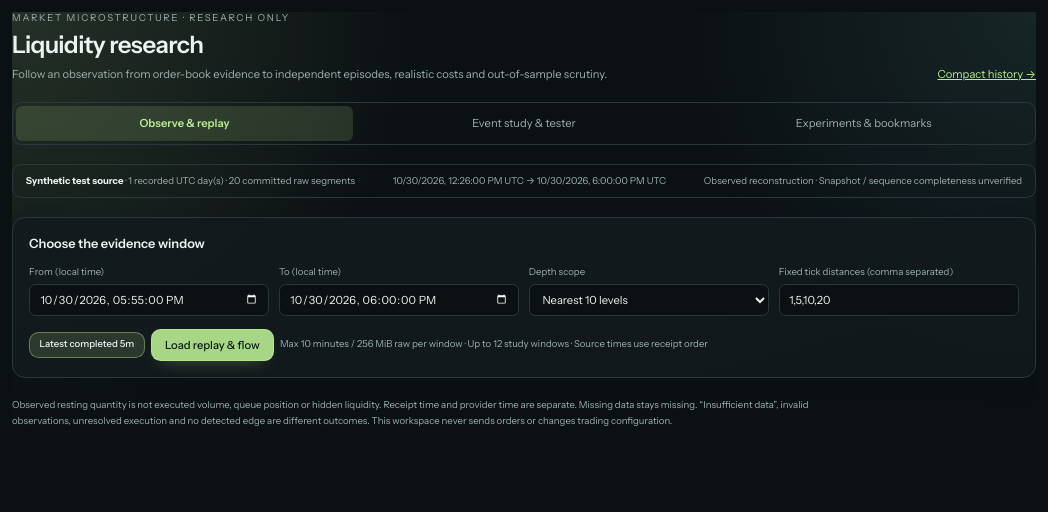
rejects oversized UI windows before submitting a job
Expected: the text "Synthetic test source" is shown, [26,175,124,186]
Replace the text in the field named "Research start" with "2026-10-30T10:00:00": (149, 300) [29,284,269,316]
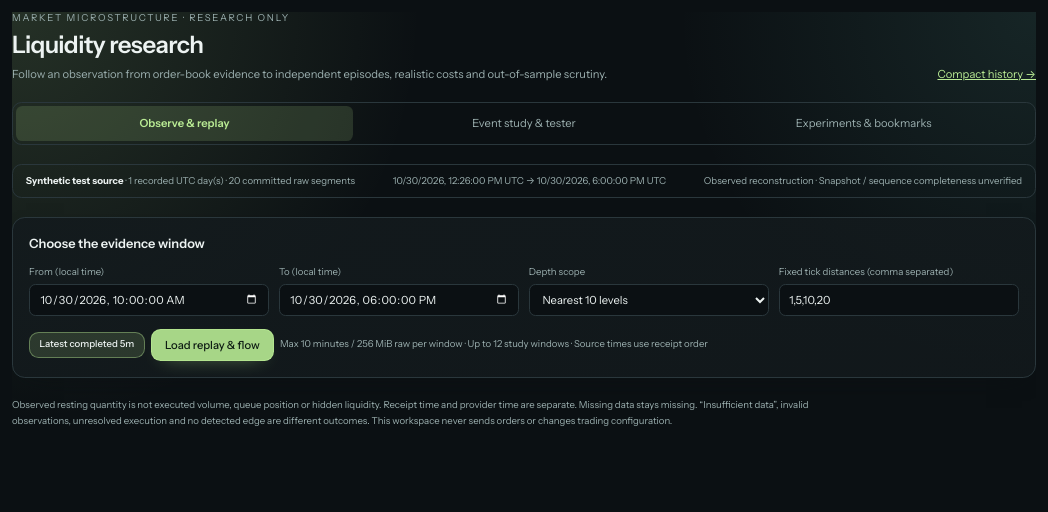
Replace the text in the field named "Research end" with "2026-10-30T11:00:00": (399, 300) [279,284,519,316]
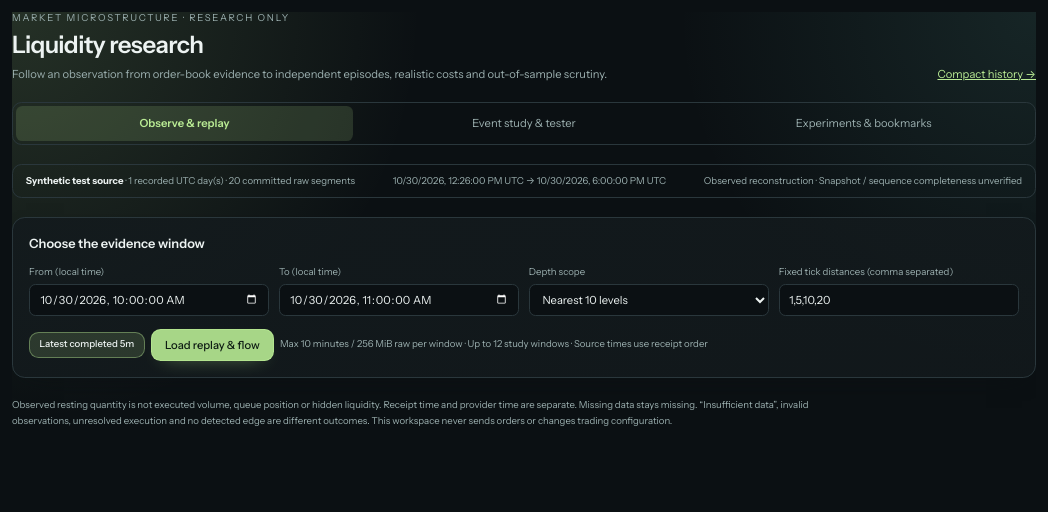
Click the button "Load replay & flow": (212, 345) [151,329,274,361]
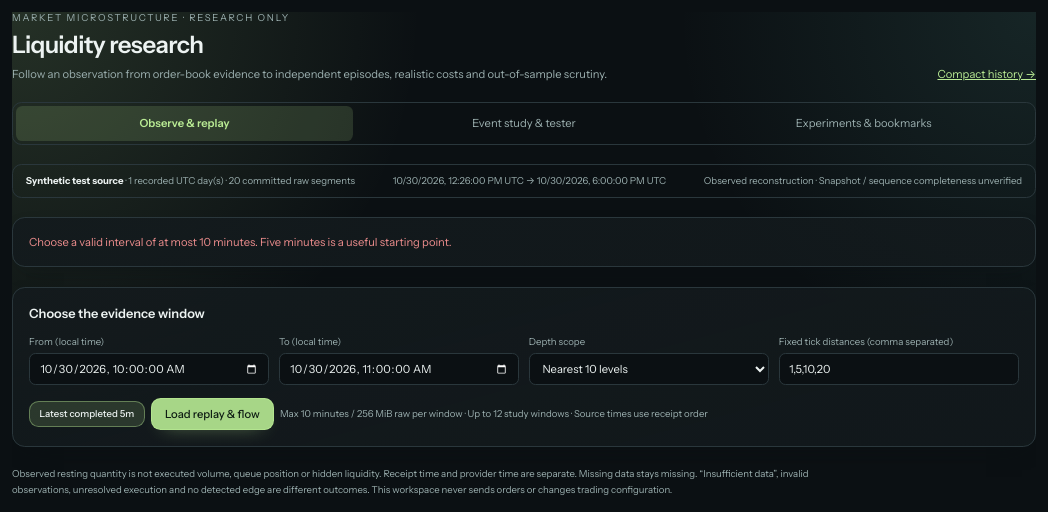
Now the message is shown, box [29,236,452,250]
